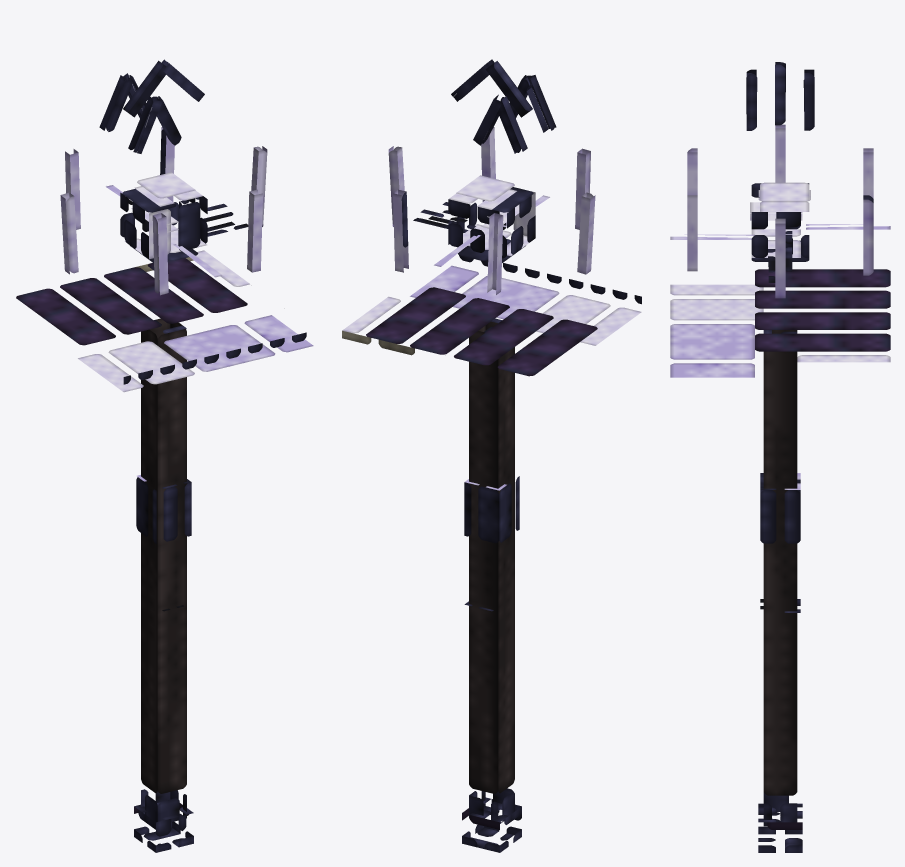
File: omen_staff.obj
3 views of the same model, side by side, from view 1: azimuth 30°, elevation 25°; view 2: azimuth 150°, elevation 25°; view 3: azimuth 270°, elevation 25° (orthographic).
Visible parts, largest first — view 1: lit; view 2: lit; view 3: lit.
Part boxes in pixels (bbox=[...]): lit: bbox=[16, 59, 313, 852]; lit: bbox=[342, 59, 641, 852]; lit: bbox=[670, 62, 890, 852].
Size of the model in its own units: 0.8628 by 3.35 by 0.8125.
